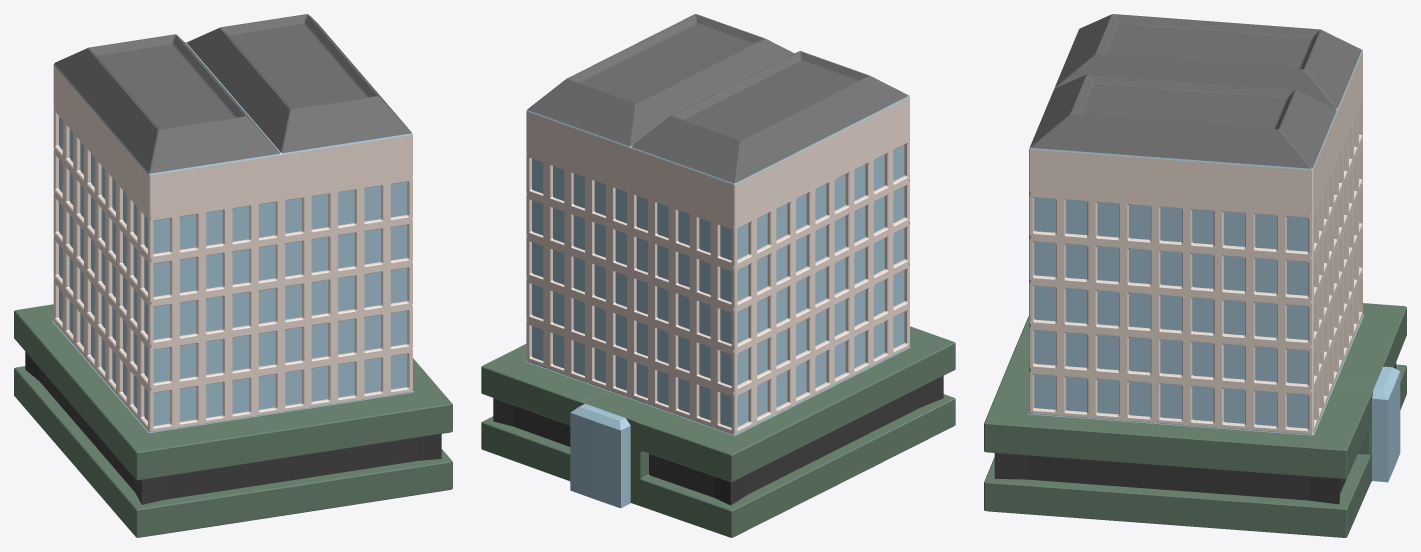
File: Building_014.fbx
3 views of the same model, side by side, from view 1: azimuth 30°, elevation 25°; view 2: azimuth 150°, elevation 25°; view 3: azimuth 270°, elevation 25° (orthographic). The views are drawn at different scales.
Visible parts, largest first — view 1: Building_014; view 2: Building_014; view 3: Building_014.
Part boxes in pixels (x1,y1,x2,y2): Building_014: [14, 14, 452, 537]; Building_014: [481, 14, 955, 537]; Building_014: [984, 14, 1406, 537].
Bounding box in the file's own units: 3101 × 3221 × 3240.
